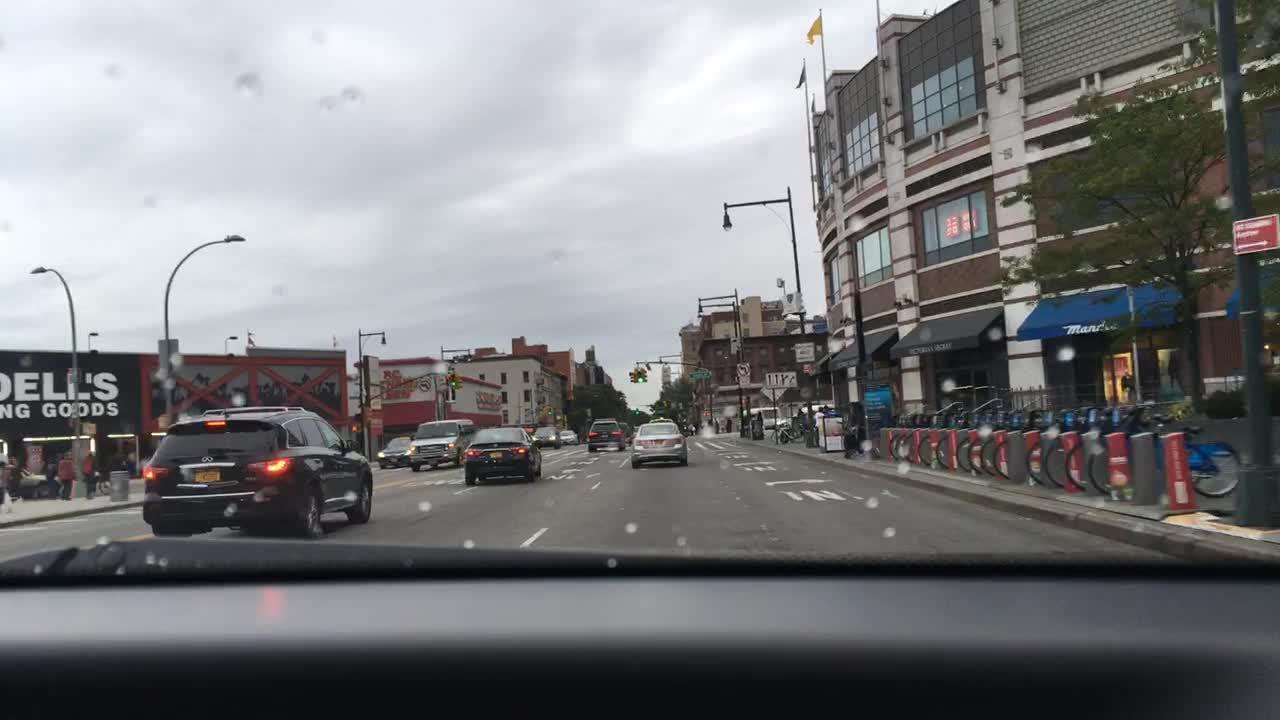Infiniti: (197, 450, 220, 470)
